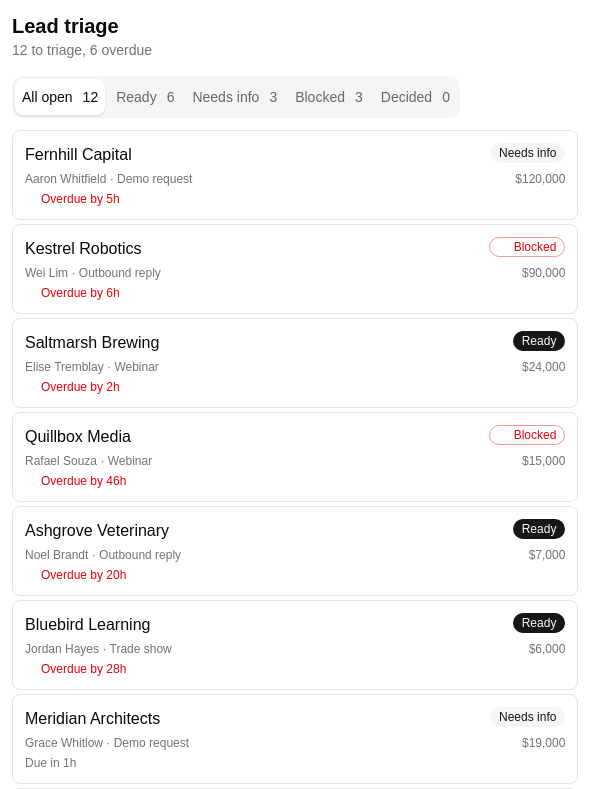
Lead triage queue › filters the queue by readiness and keeps counts honest
expect the text "12 to triage, 6 overdue" is shown: met, box [12,40,152,60]
Click the tab "Blocked 3" at (329, 97), box [288,79,370,115]
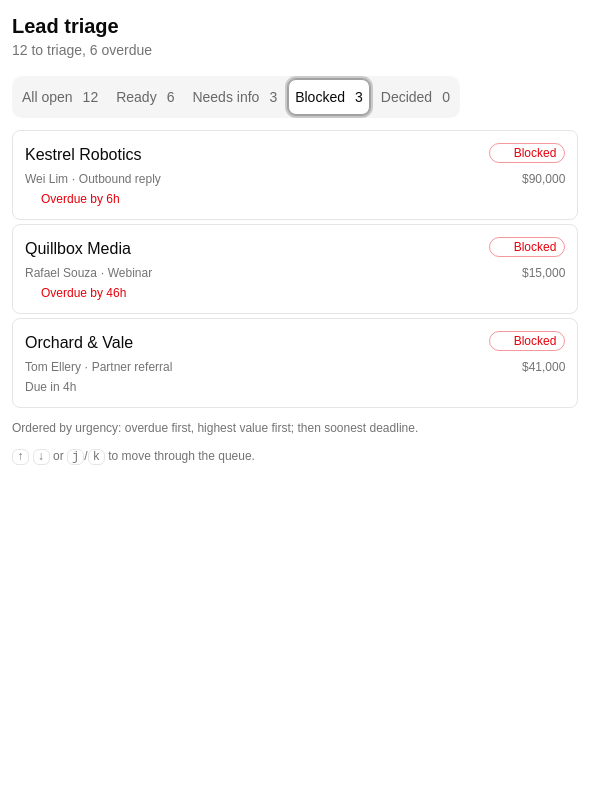
expect the number of buttons is 3: met, box [12,130,578,220]; [12,224,578,314]; [12,318,578,408]
